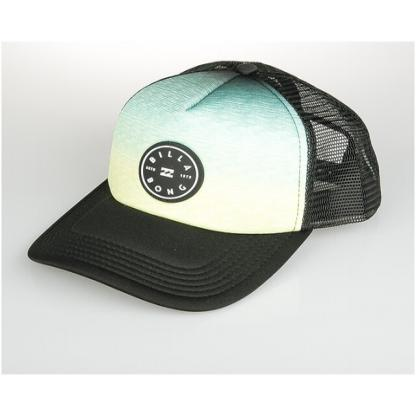cap: (28, 61, 382, 316)
